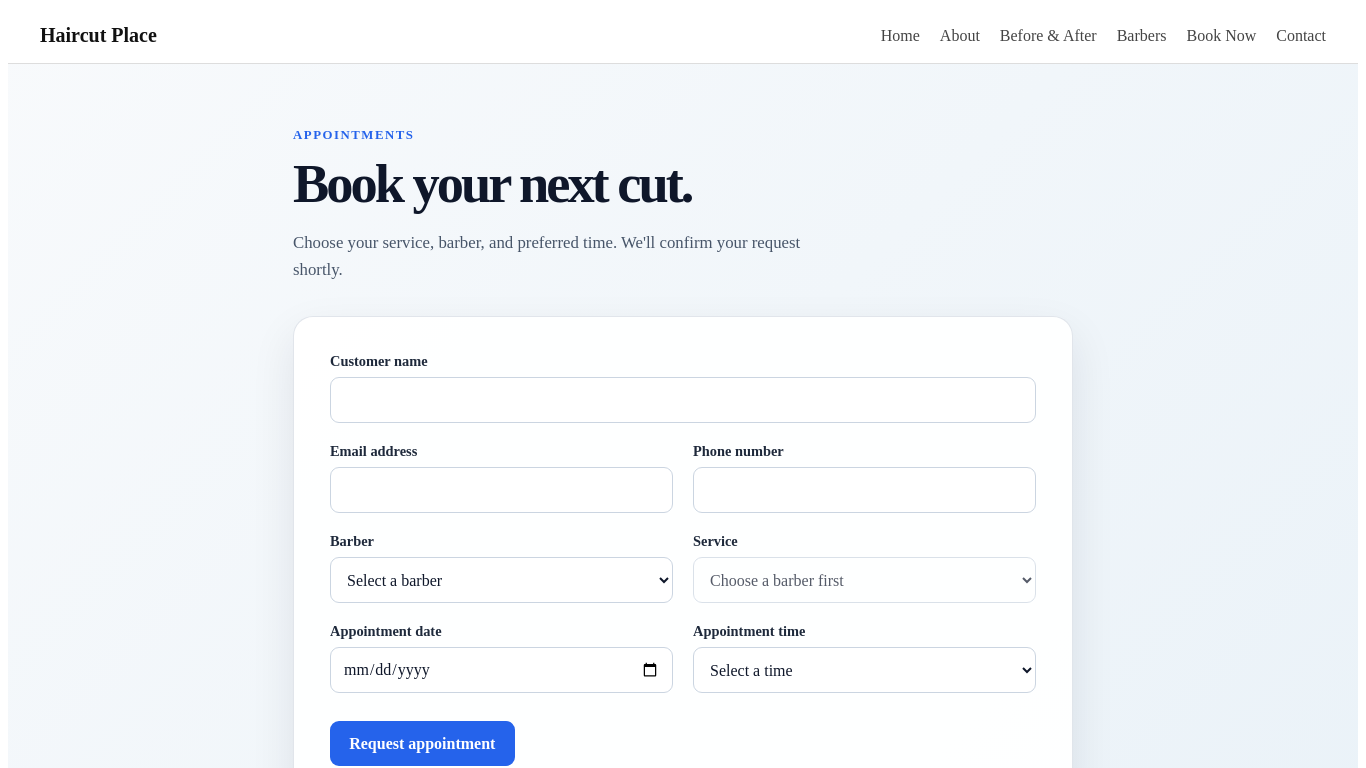
Scenario: BookNowPage › shows phone validation error
The image size is (1366, 768).
Type "123" into the field labelled "Phone number" at (864, 490), box [693,467,1036,513]
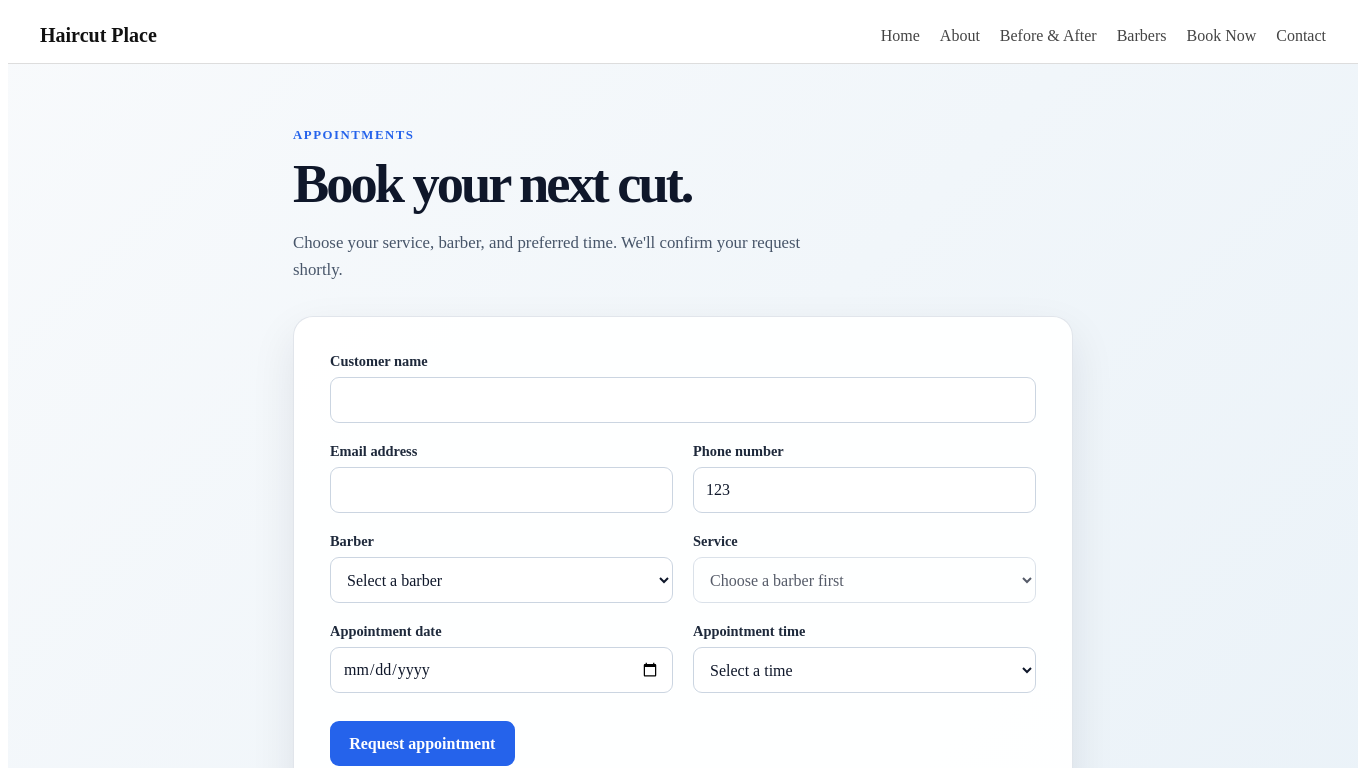
Click the button "Request appointment" at (422, 744), box [330,721,515,766]
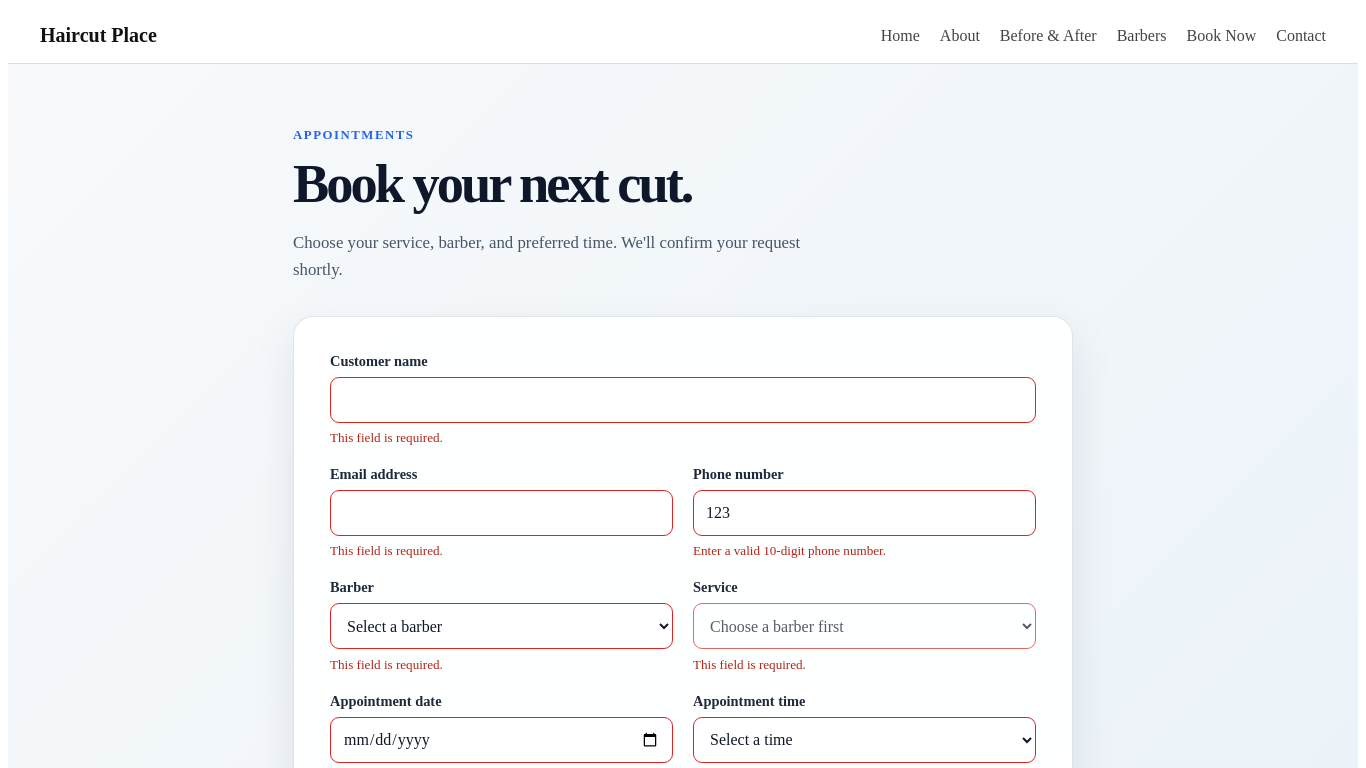
Expected: the text "Enter a valid 10-digit phone number." is shown, [693,543,886,558]
